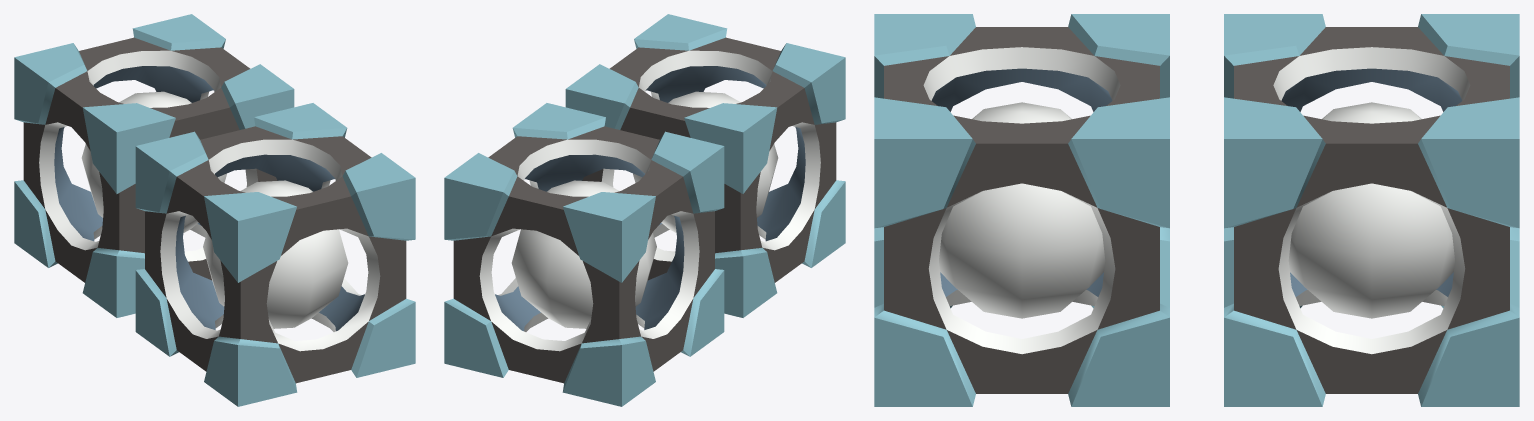
3 renders of one model, left to right at view 1: azimuth 30°, elevation 25°; view 2: azimuth 150°, elevation 25°; view 3: azimuth 270°, elevation 25°, orthographic. The views are drawn at different scales.
Visible parts, largest first — view 1: Cube (FULL), Cube (Divided).001, Cube (Divided).002, Cube (Divided), Cube (Divided).003, Cube(DividedSphere).001; view 2: Cube (FULL), Cube (Divided).001, Cube (Divided).002, Cube(DividedSphere).001, Cube (Divided), Cube (Divided).003; view 3: Cube (FULL), Cube (Divided).001, Cube (Divided).002, Cube(DividedSphere).001, Cube (Divided), Cube (Divided).003.
Part boxes in pixels (<box>): Cube (FULL): <box>135,103,415,406</box>; Cube (Divided).001: <box>14,14,294,317</box>; Cube (Divided).002: <box>23,37,277,282</box>; Cube (Divided): <box>39,50,258,261</box>; Cube (Divided).003: <box>54,66,214,241</box>; Cube(DividedSphere).001: <box>81,91,226,232</box>; Cube (FULL): <box>565,14,845,317</box>; Cube (Divided).001: <box>444,103,724,406</box>; Cube (Divided).002: <box>453,126,714,383</box>; Cube(DividedSphere).001: <box>511,180,656,328</box>; Cube (Divided): <box>479,139,699,351</box>; Cube (Divided).003: <box>495,154,684,331</box>; Cube (FULL): <box>874,14,1169,406</box>; Cube (Divided).001: <box>1224,14,1519,406</box>; Cube (Divided).002: <box>1234,27,1509,393</box>; Cube(DividedSphere).001: <box>1288,102,1454,318</box>; Cube (Divided): <box>1273,47,1470,354</box>; Cube (Divided).003: <box>1281,68,1462,296</box>.
Size of the model in its own units: 37.63 by 37.63 by 82.14.
